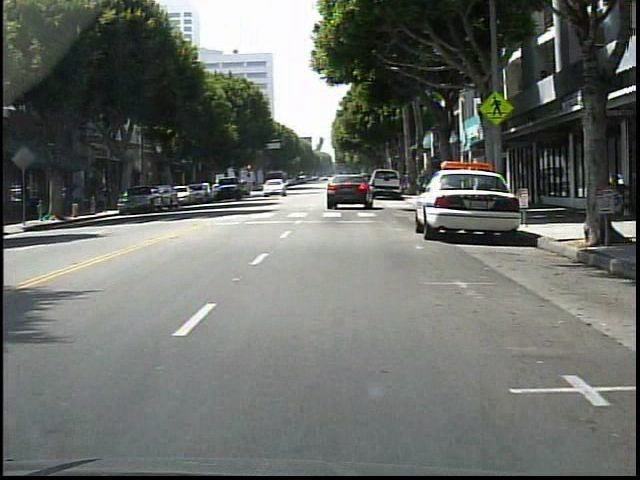person: (413, 165, 435, 205)
